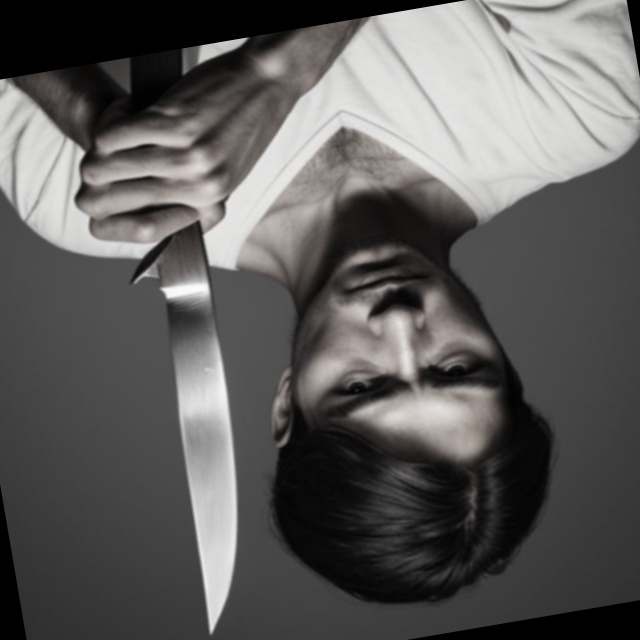Sharp-Object: (88, 48, 287, 640)
